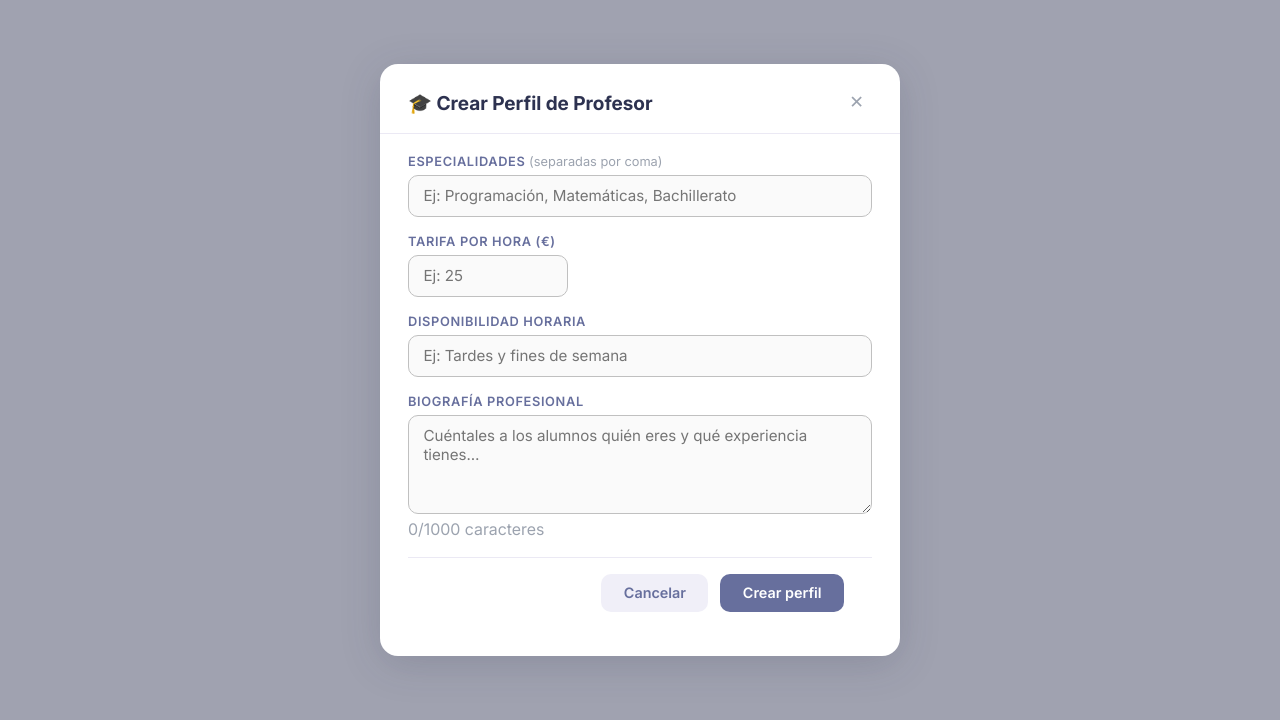
Scenario: CreateProfileModal › muestra mensaje de error cuando falla la creación
Type "Matemáticas" into the field labelled "Especialidades (separadas por coma)".
click(640, 196); type("Matemáticas")  # box [408,175,872,217]
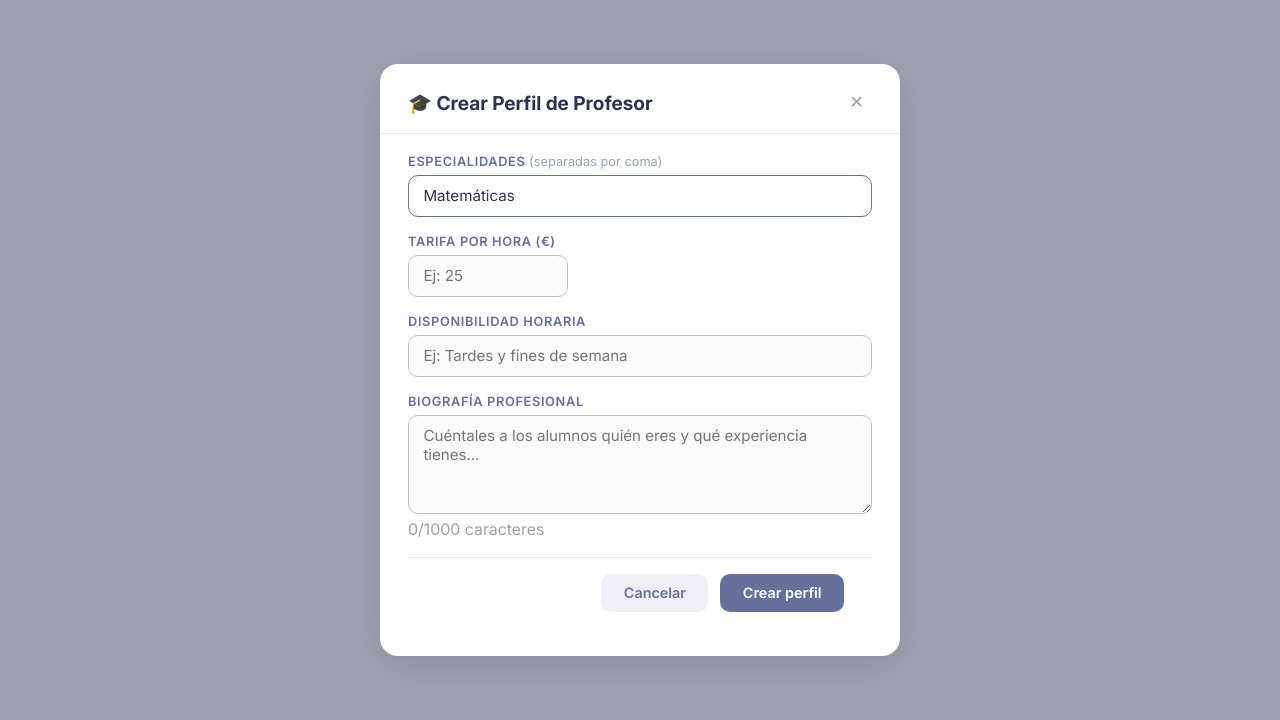
Type "20" into the number field labelled "Tarifa por hora (€)".
click(488, 276); type("20")  # box [408,255,568,297]
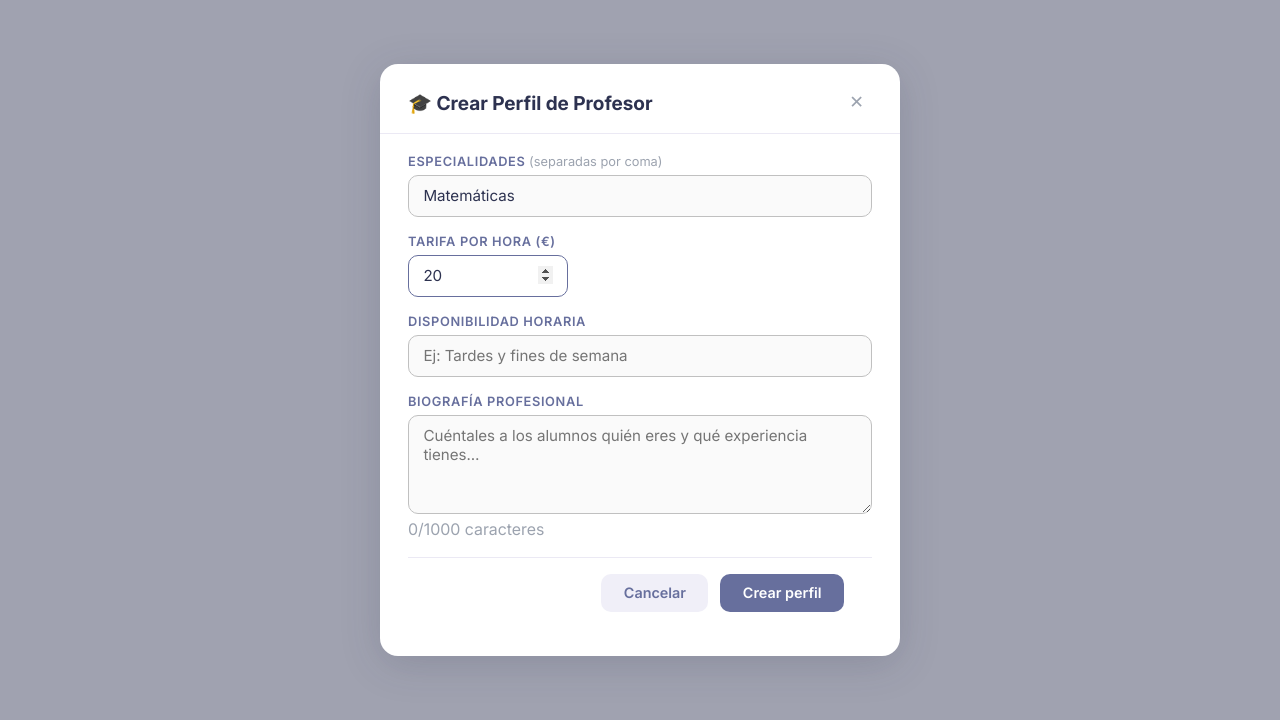
Type "Profesor experto" into the text box labelled "Biografía profesional".
click(640, 464); type("Profesor experto")  # box [408,415,872,514]
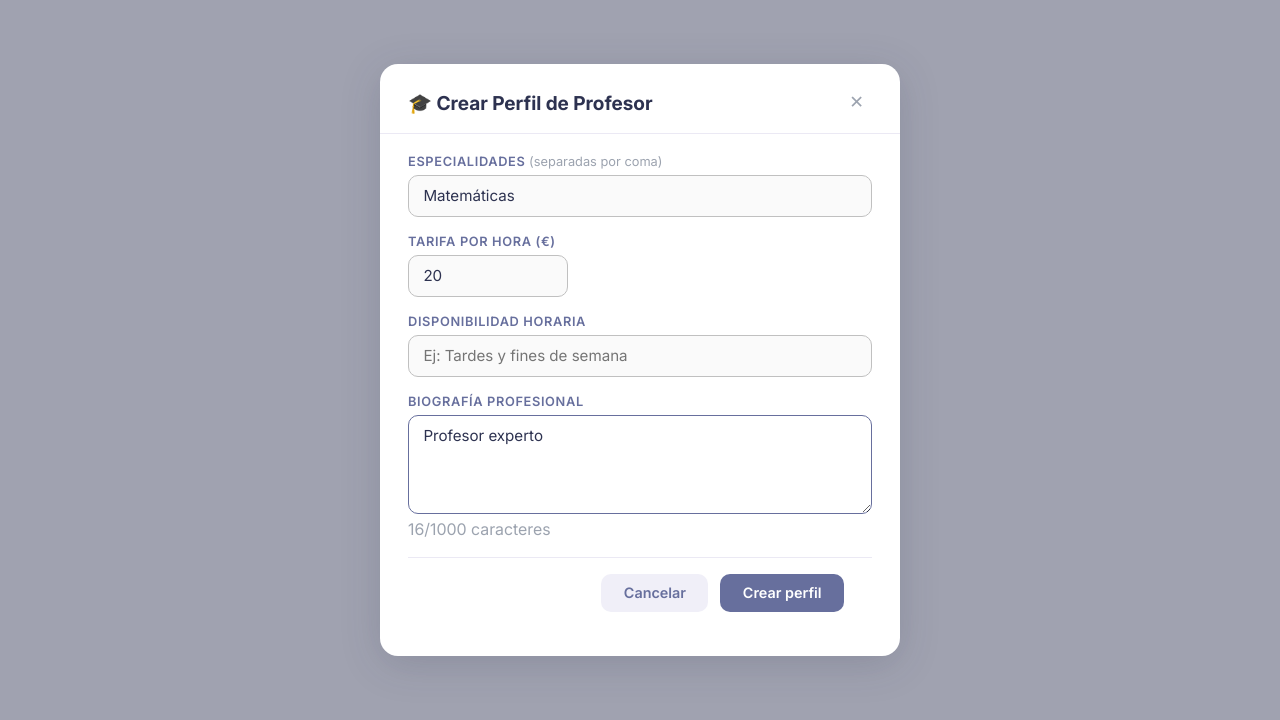
Click the button "Crear perfil".
click(782, 593)  # box [720,574,844,612]
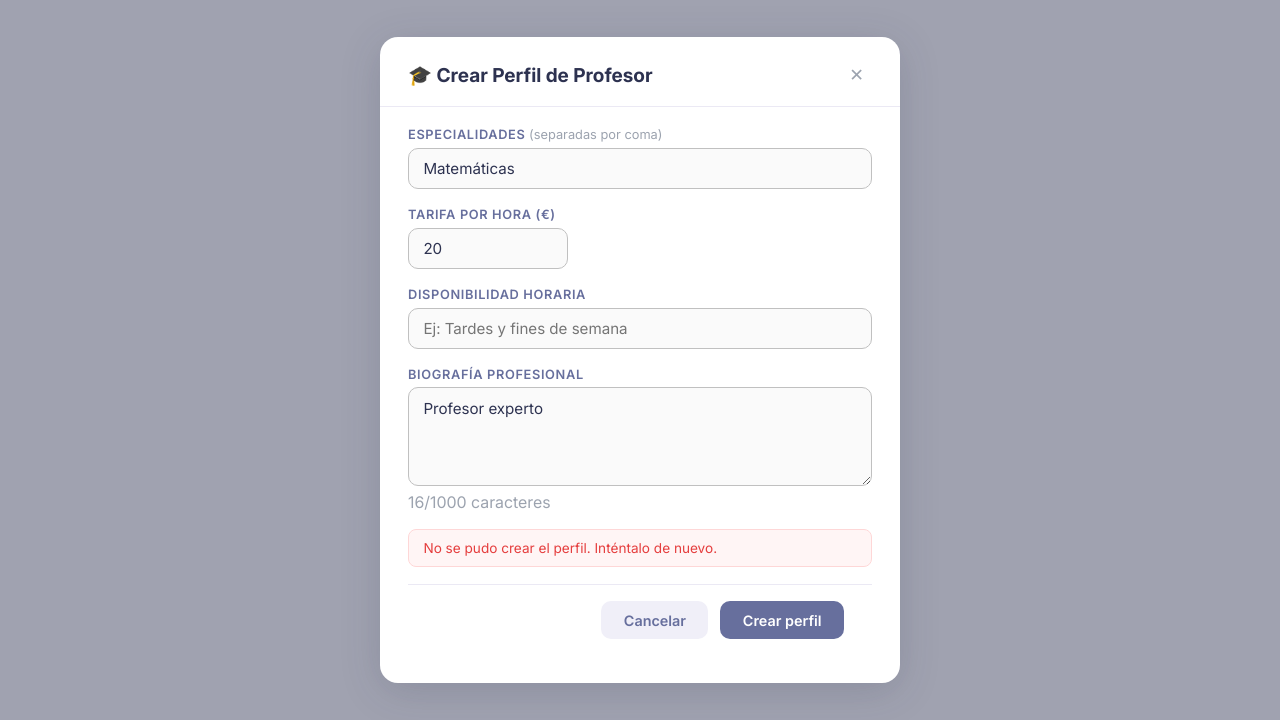
Expected: the text "No se pudo crear el perfil. Inténtalo de nuevo." is shown, [408,530,872,567]
